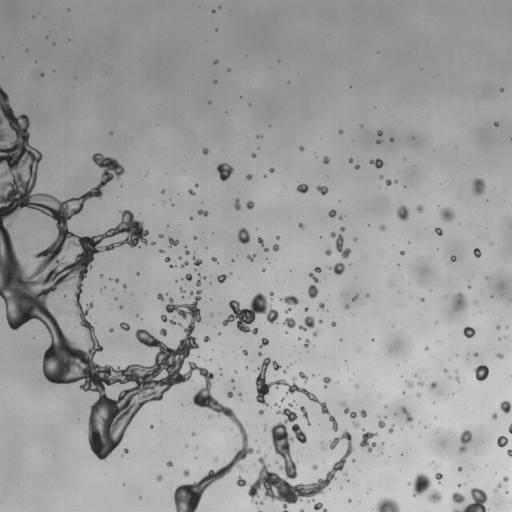droplet: (248, 403, 353, 511), (223, 293, 278, 334), (452, 487, 487, 511), (411, 473, 431, 496), (360, 430, 376, 452), (217, 163, 233, 181), (452, 292, 467, 310), (298, 316, 314, 331), (474, 365, 488, 381), (472, 178, 485, 195), (237, 227, 250, 244), (439, 207, 454, 221), (426, 490, 442, 503), (279, 295, 298, 305), (397, 205, 409, 220), (331, 262, 344, 274), (463, 326, 475, 338), (500, 400, 511, 413), (452, 492, 465, 503), (308, 284, 318, 298), (283, 317, 295, 328), (370, 158, 383, 168), (497, 436, 508, 447), (316, 185, 328, 195), (314, 502, 327, 511), (296, 184, 308, 193), (196, 274, 205, 286), (237, 476, 247, 486), (323, 376, 331, 387), (169, 237, 178, 246), (193, 257, 202, 266), (260, 337, 268, 347), (234, 198, 241, 209), (435, 472, 442, 483), (246, 200, 254, 209), (120, 322, 129, 330), (197, 210, 208, 216), (474, 248, 481, 257), (328, 210, 336, 217), (247, 254, 255, 261), (184, 274, 192, 281), (378, 420, 385, 428), (416, 205, 423, 212), (435, 228, 442, 235), (157, 293, 164, 300), (359, 410, 366, 417), (257, 237, 263, 245), (160, 328, 166, 336), (323, 156, 329, 163), (272, 244, 278, 251), (325, 248, 331, 255), (318, 302, 324, 309), (312, 329, 318, 336), (430, 382, 436, 389), (183, 469, 189, 476), (156, 474, 162, 481), (304, 339, 309, 347), (202, 148, 208, 154), (385, 179, 391, 185), (188, 189, 194, 195), (450, 255, 456, 261), (352, 294, 358, 300), (502, 476, 508, 482), (314, 267, 321, 272), (496, 353, 503, 358), (388, 426, 393, 433), (507, 449, 511, 457), (246, 174, 252, 179), (298, 223, 304, 228), (164, 257, 170, 262), (180, 287, 185, 293), (204, 336, 209, 342), (227, 391, 232, 397), (492, 413, 497, 419), (166, 461, 172, 466), (377, 130, 382, 135), (380, 225, 385, 230), (344, 304, 349, 309), (331, 321, 336, 326), (242, 349, 247, 354), (407, 382, 412, 387), (312, 464, 317, 469), (211, 257, 217, 261), (169, 264, 175, 268), (455, 376, 459, 382), (355, 164, 359, 169), (269, 168, 274, 172), (340, 226, 344, 231), (159, 249, 164, 253), (185, 249, 189, 254), (400, 250, 404, 255), (285, 308, 290, 312), (443, 368, 447, 373), (258, 410, 263, 414), (213, 60, 217, 64), (494, 122, 498, 126), (338, 130, 342, 134), (299, 146, 303, 150), (251, 153, 255, 157), (114, 278, 118, 282), (496, 325, 500, 329), (258, 352, 262, 356), (124, 449, 128, 453), (457, 483, 461, 487), (376, 140, 381, 143), (189, 291, 192, 296), (418, 382, 423, 385), (212, 9, 215, 13), (349, 158, 352, 162), (151, 241, 155, 244), (123, 284, 126, 288), (270, 292, 273, 296), (421, 297, 424, 301), (304, 308, 308, 311), (318, 320, 322, 323), (435, 464, 438, 468), (299, 509, 304, 511), (500, 88, 503, 91), (390, 138, 393, 141), (195, 184, 198, 187), (161, 190, 164, 193), (159, 234, 162, 237), (264, 248, 267, 251), (210, 313, 213, 316), (425, 347, 428, 350), (474, 353, 477, 356), (231, 379, 234, 382), (402, 391, 405, 394), (281, 398, 284, 401), (150, 425, 153, 428), (192, 432, 195, 435), (322, 446, 325, 449), (257, 449, 260, 452), (458, 467, 461, 470), (344, 472, 347, 475), (257, 135, 261, 137), (228, 68, 230, 71), (214, 80, 216, 83), (380, 175, 382, 178), (394, 180, 397, 182), (339, 216, 341, 219), (194, 236, 196, 239), (276, 236, 278, 239), (354, 238, 356, 241), (486, 276, 488, 279), (366, 294, 368, 297), (110, 328, 112, 331), (218, 332, 220, 335), (417, 394, 420, 396), (348, 499, 351, 501), (110, 131, 112, 133), (190, 217, 192, 219), (263, 269, 265, 271), (468, 286, 470, 288), (120, 306, 122, 308), (498, 337, 500, 339), (448, 375, 450, 377), (356, 385, 358, 387), (239, 393, 241, 395), (215, 458, 217, 460), (352, 459, 354, 461)
ligament: (0, 87, 255, 511), (255, 357, 337, 431), (330, 232, 350, 258), (340, 402, 359, 428), (371, 498, 400, 511), (459, 430, 471, 452), (161, 315, 182, 326), (300, 406, 310, 425), (401, 407, 412, 422), (217, 272, 231, 283), (309, 273, 319, 282), (298, 372, 307, 381), (378, 442, 384, 453), (494, 483, 501, 491), (180, 261, 188, 267), (509, 424, 511, 433), (258, 509, 262, 511)
